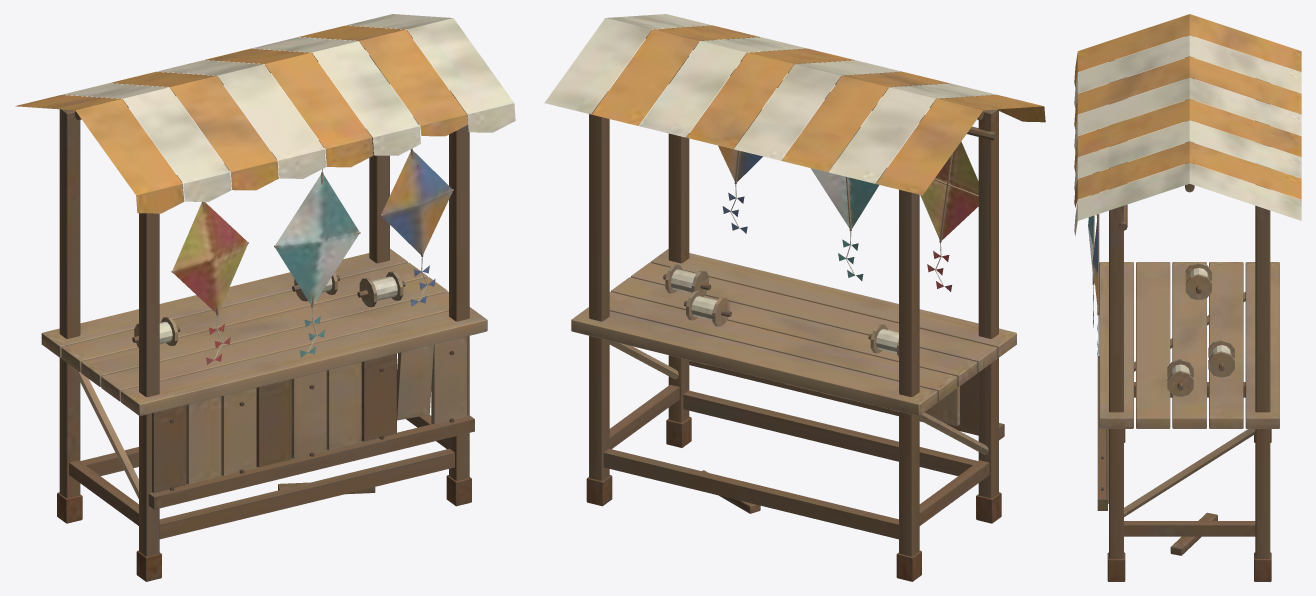
File: W33_kite_stall.glb
The picture shows the model from 3 angles, left to right: view 1: azimuth 30°, elevation 25°; view 2: azimuth 150°, elevation 25°; view 3: azimuth 270°, elevation 25°; orthographic projection. The views are drawn at different scales.
Parts seen in each view (by area): view 1: Weathered upright; view 2: Weathered upright; view 3: Weathered upright.
Part boxes in pixels (bbox=[...]): Weathered upright: bbox=[15, 14, 515, 581]; Weathered upright: bbox=[544, 14, 1045, 581]; Weathered upright: bbox=[1074, 14, 1301, 581].
Bounding box in the file's own units: 1.78 × 2 × 1.01.
Materials: 10 (10 with a texture image).
